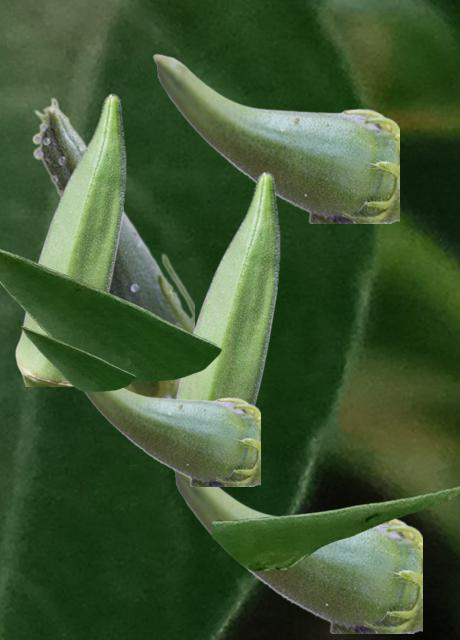okra: (31, 97, 193, 397), (152, 53, 398, 222), (171, 470, 421, 632), (15, 93, 125, 385), (175, 171, 279, 404), (83, 388, 259, 485)
